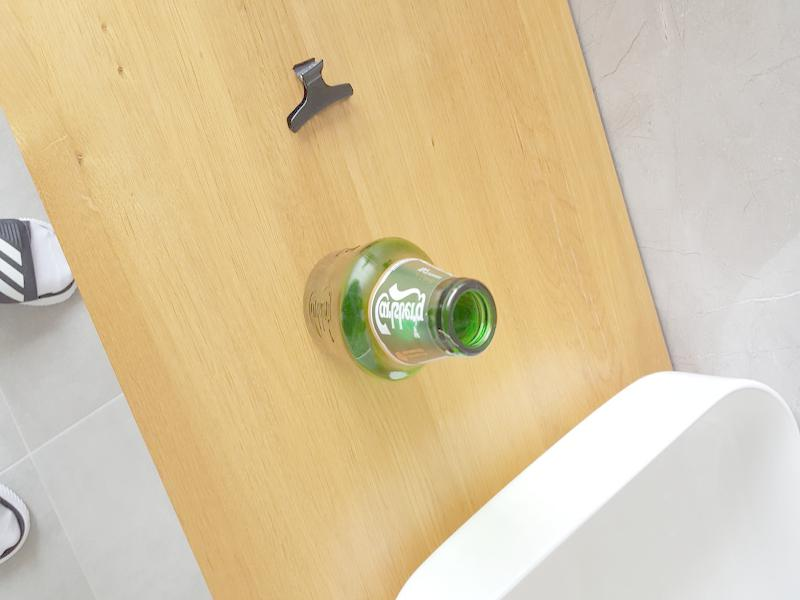Beer: (303, 237, 495, 383)
